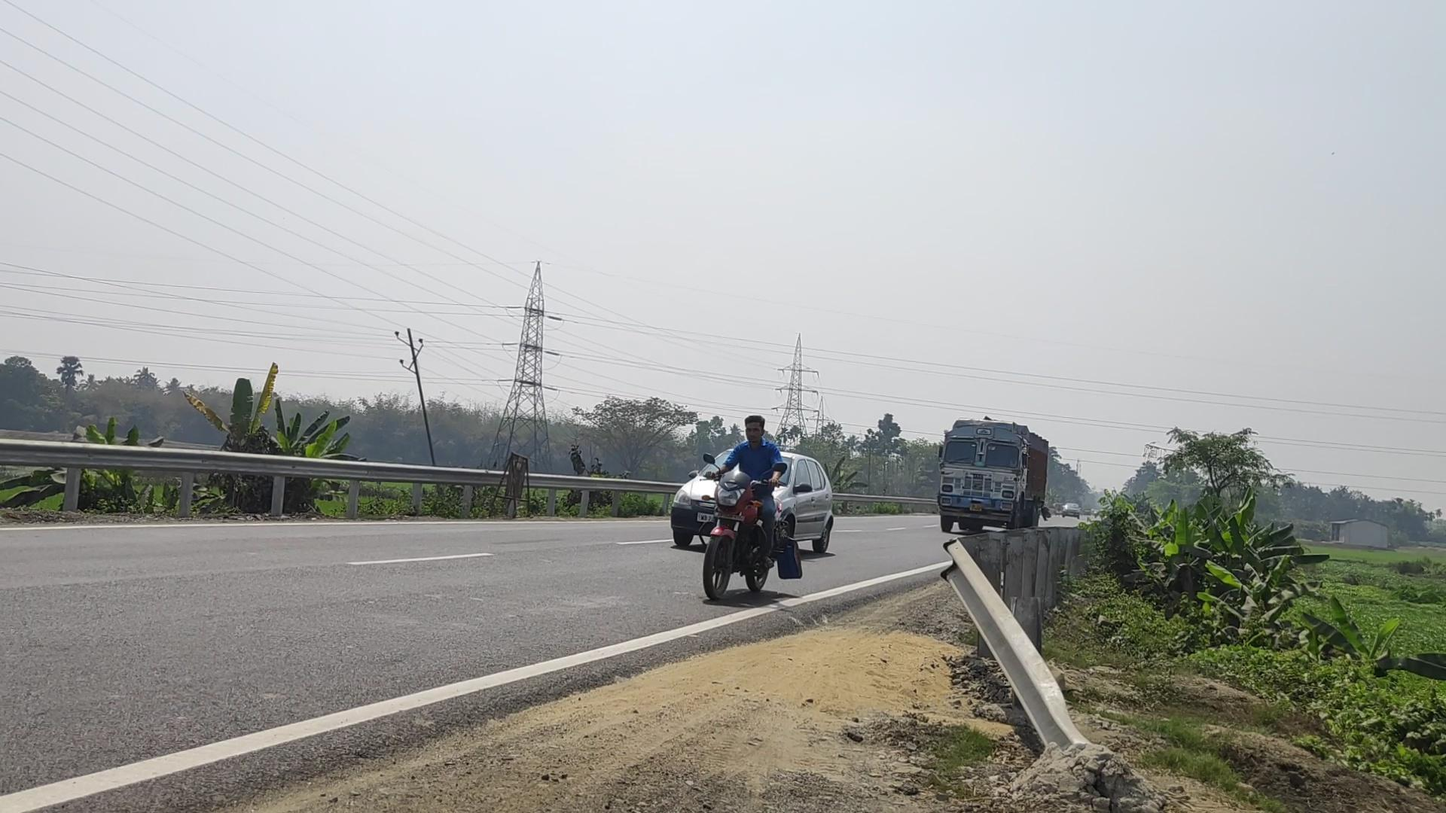bike: (702, 415, 802, 600)
car: (671, 447, 834, 555)
truck: (938, 419, 1048, 535)
